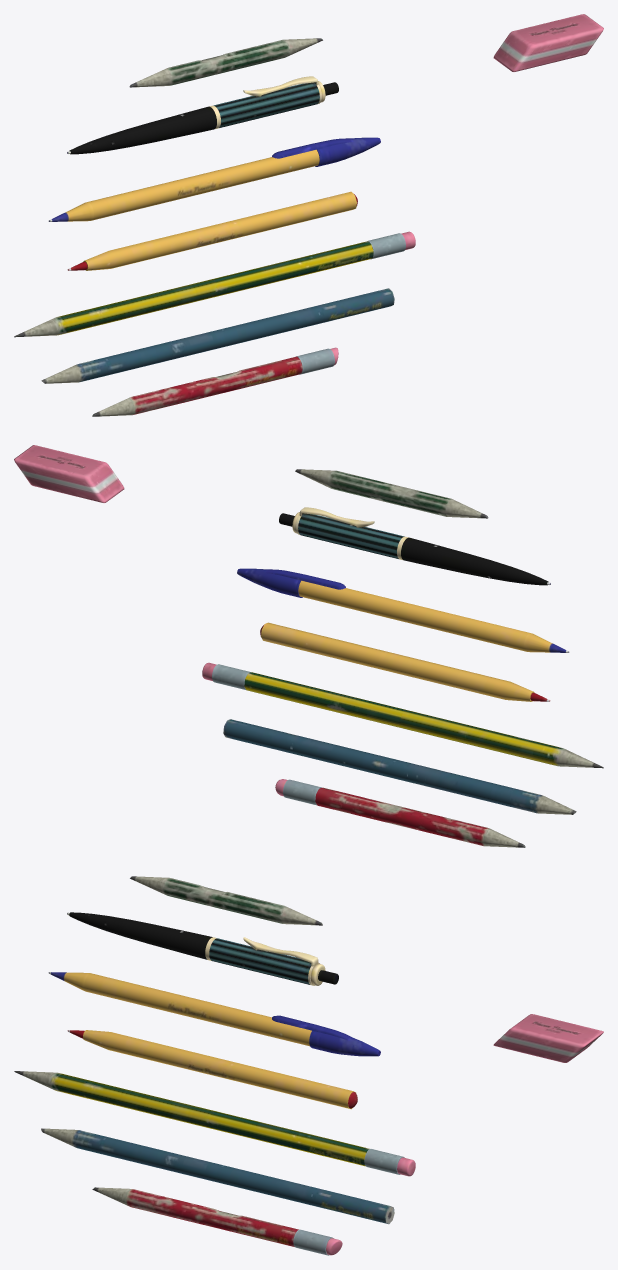
File: pens.glb
3 views of the same model, one above another, from view 1: azimuth 30°, elevation 25°; view 2: azimuth 150°, elevation 25°; view 3: azimuth 330°, elevation 25° (orthographic).
Parts seen in each view (by area): view 1: stationery_supplies_pen_red; view 2: stationery_supplies_pen_red; view 3: stationery_supplies_pen_red.
Part boxes in pixels (left/top/right/bottom): stationery_supplies_pen_red: left=14, top=14, right=603, bottom=416; stationery_supplies_pen_red: left=14, top=445, right=603, bottom=847; stationery_supplies_pen_red: left=14, top=876, right=603, bottom=1255.
Bounding box in the file's own units: 0.2826 × 0.1569 × 0.0186.
Materials: 1 (1 with a texture image).
